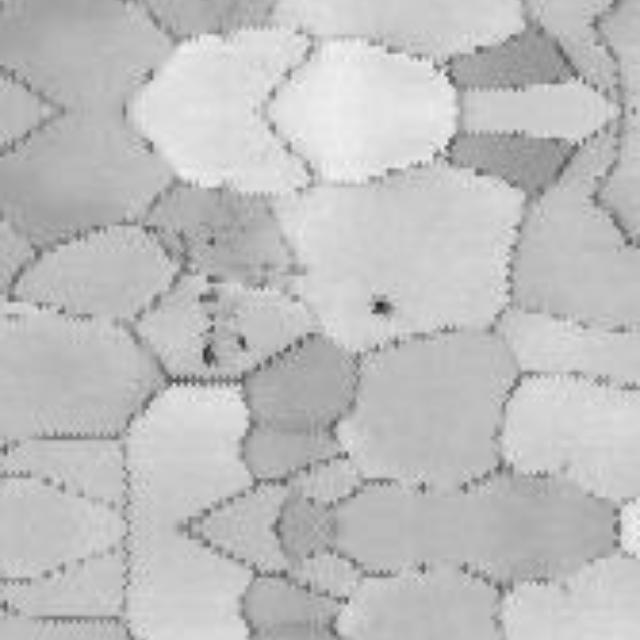good_void: (193, 338, 224, 372), (364, 292, 396, 322), (197, 288, 224, 307), (235, 334, 254, 353), (204, 234, 217, 249), (205, 323, 217, 337)
